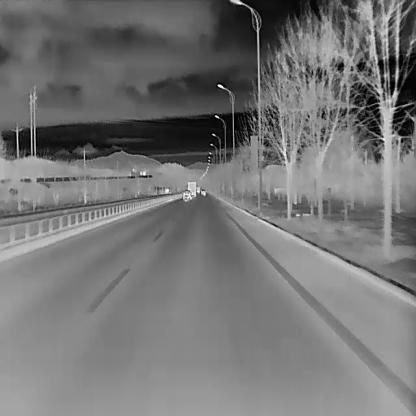car: (182, 190, 192, 202), (201, 189, 205, 195)
truck: (186, 180, 196, 196)
